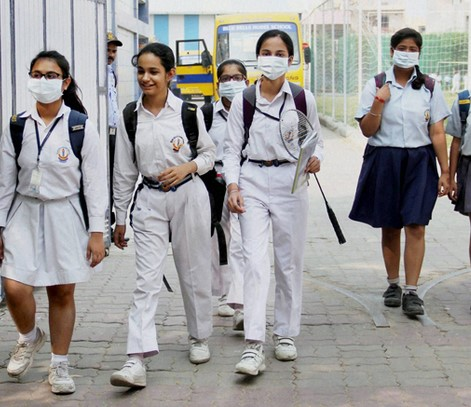face_no_mask: (133, 45, 176, 98)
face_with_mask: (28, 51, 73, 103), (253, 30, 293, 81), (388, 28, 423, 71), (215, 59, 247, 106)
